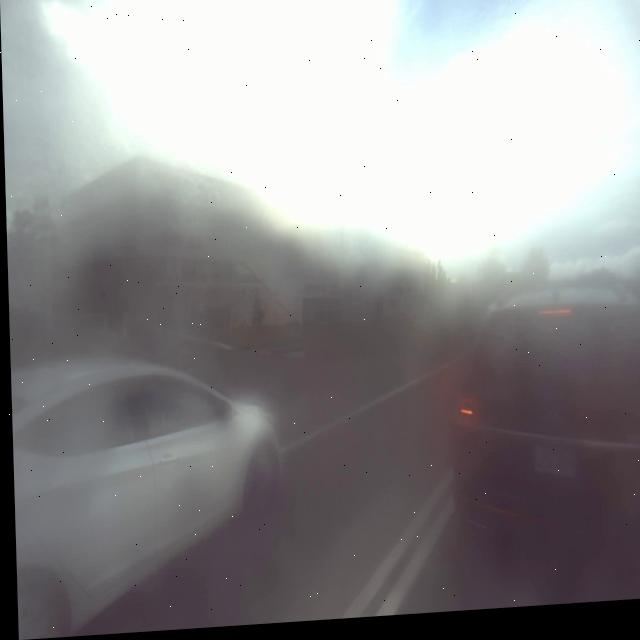car: (7, 308, 280, 622)
